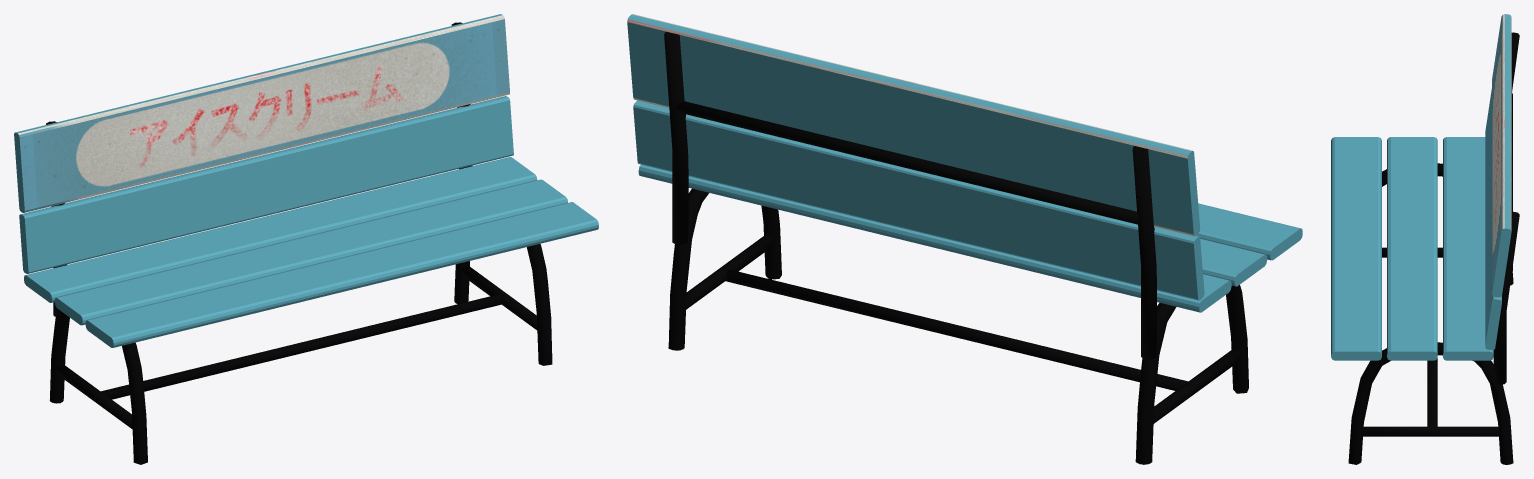
The model's file is benti1005_2.fbx.
3 renders of one model, left to right at view 1: azimuth 30°, elevation 25°; view 2: azimuth 150°, elevation 25°; view 3: azimuth 270°, elevation 25°, orthographic. The views are drawn at different scales.
Visible parts, largest first — view 1: cube; view 2: cube; view 3: cube.
Part boxes in pixels (<box>): cube: <box>14,14,598,464</box>; cube: <box>627,14,1302,464</box>; cube: <box>1331,14,1519,464</box>.
Bounding box in the file's own units: 200 × 109 × 74.33.
